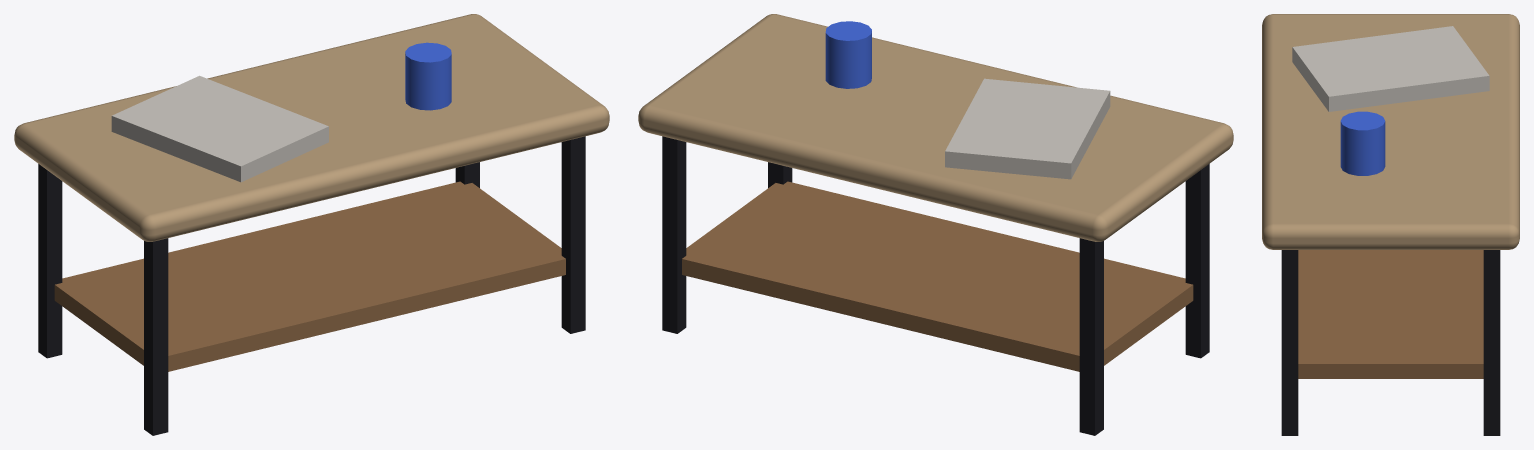
File: mesa-centro.glb
The picture shows the model from 3 angles, left to right: view 1: azimuth 30°, elevation 25°; view 2: azimuth 150°, elevation 25°; view 3: azimuth 270°, elevation 25°; orthographic projection. The views are drawn at different scales.
Visible parts, largest first — view 1: mesa-centro_malha; view 2: mesa-centro_malha; view 3: mesa-centro_malha.
Boxes of the visible parts, bbox=[...] form: mesa-centro_malha: bbox=[14, 14, 609, 435]; mesa-centro_malha: bbox=[638, 14, 1233, 435]; mesa-centro_malha: bbox=[1262, 14, 1519, 435].
Bounding box in the file's own units: 0.92 × 0.515 × 0.46.
